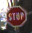stopsign: (6, 5, 26, 26)
